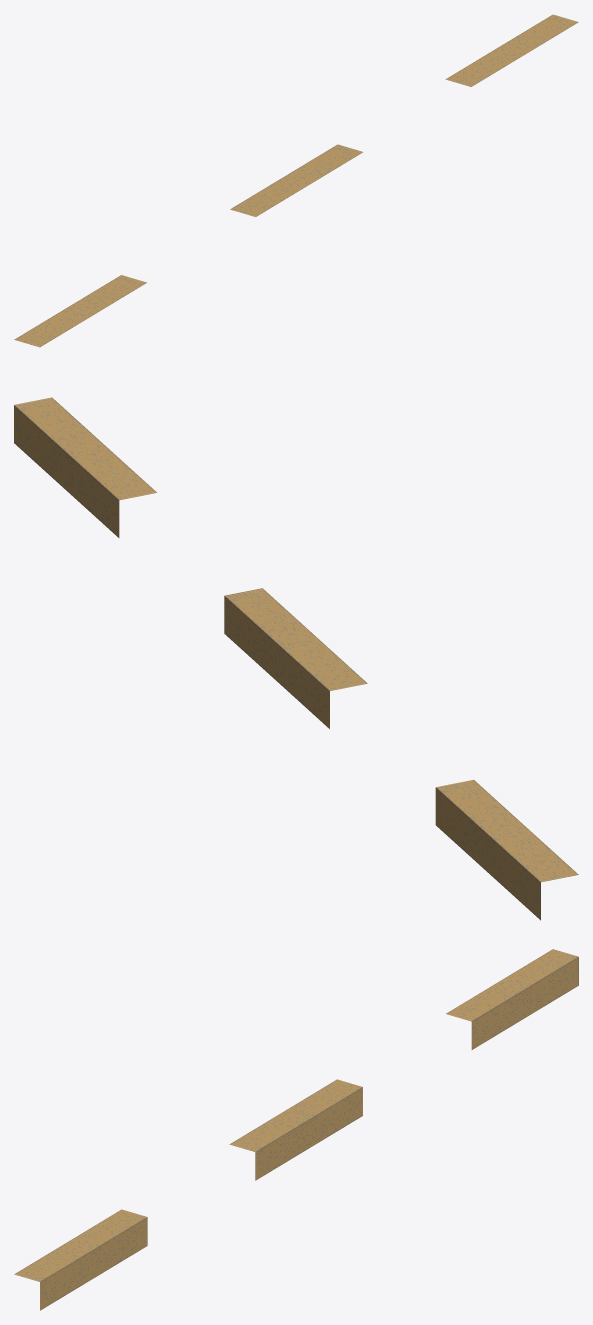
File: kd_stage_13612f_4_41_bounded.glb
3 views of the same model, one above another, from view 1: azimuth 90°, elevation 25°; view 2: azimuth 150°, elevation 25°; view 3: azimuth 270°, elevation 25° (orthographic). The views are drawn at different scales.
Visible parts, largest first — view 1: kd_stage_13612f_4_41_bounded; view 2: kd_stage_13612f_4_41_bounded; view 3: kd_stage_13612f_4_41_bounded.
Part boxes in pixels (<box>): kd_stage_13612f_4_41_bounded: <box>14,14,578,347</box>; kd_stage_13612f_4_41_bounded: <box>14,397,578,920</box>; kd_stage_13612f_4_41_bounded: <box>14,949,578,1310</box>.
Size of the model in its own units: 4.97 by 0.2 by 3.56.
Materials: 1 (1 with a texture image).
